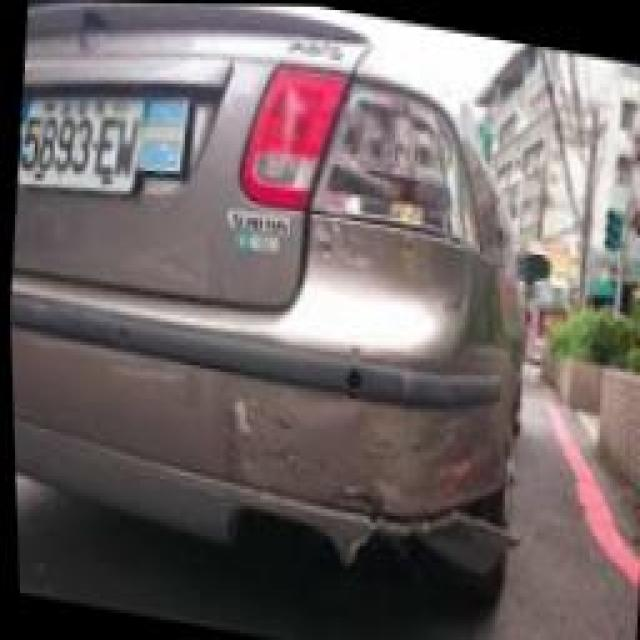Bumper: (189, 365, 516, 583)
